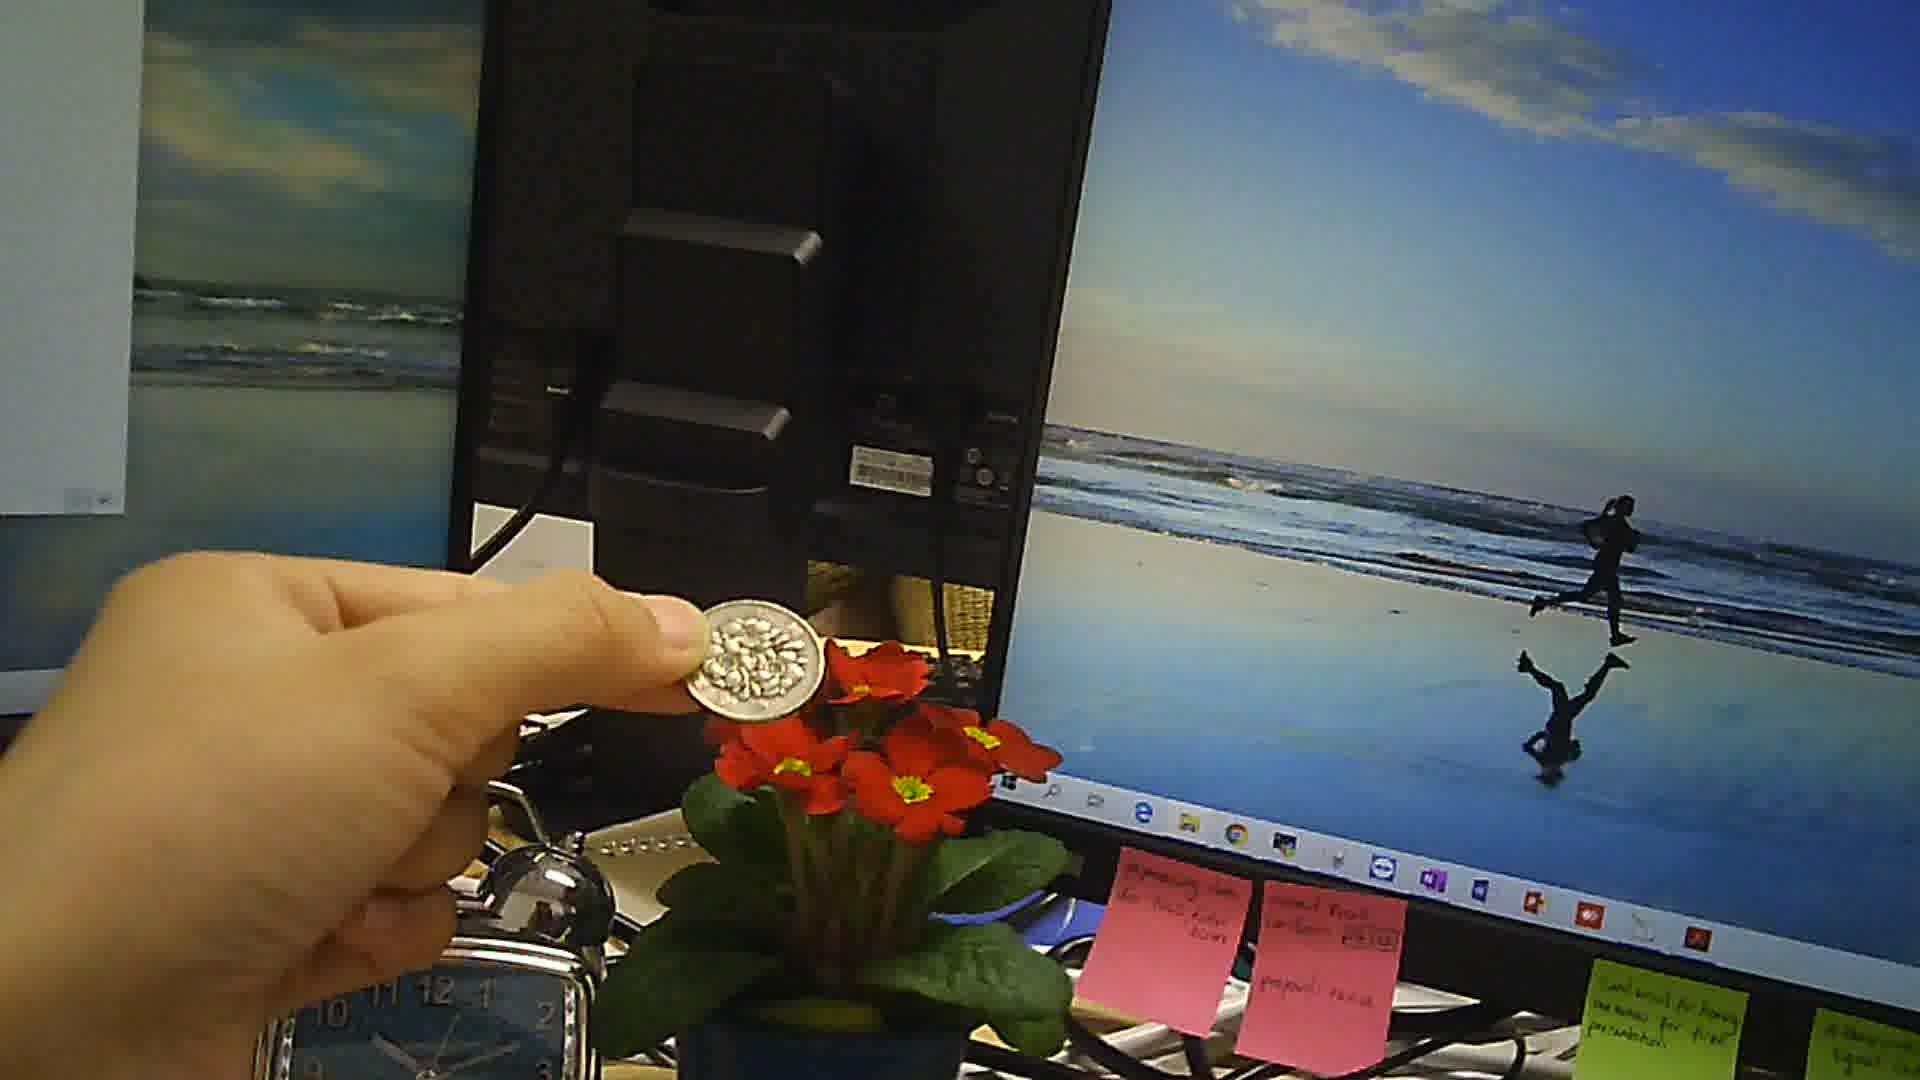100 Yen: (684, 588, 827, 731)
